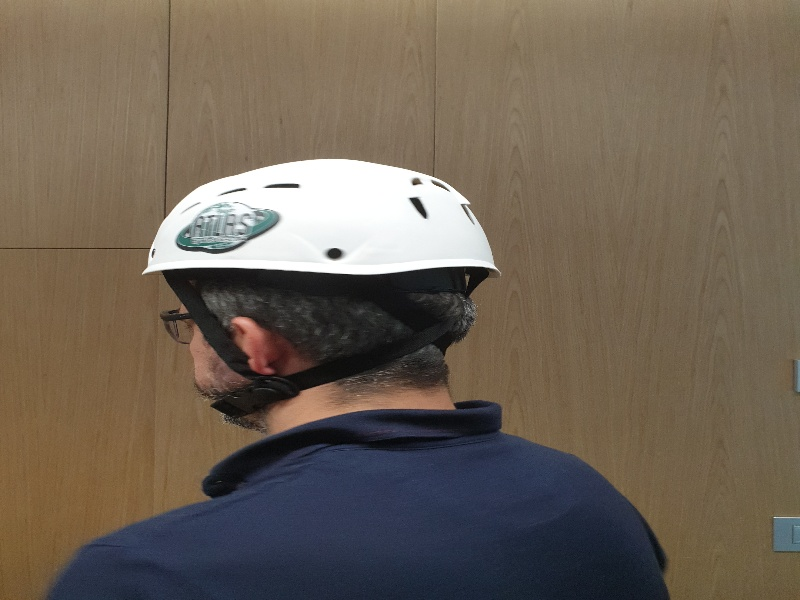Baret: (149, 173, 507, 277)
Gozluk: (156, 306, 201, 346)
